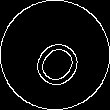O_NE: (22, 22, 88, 88)
